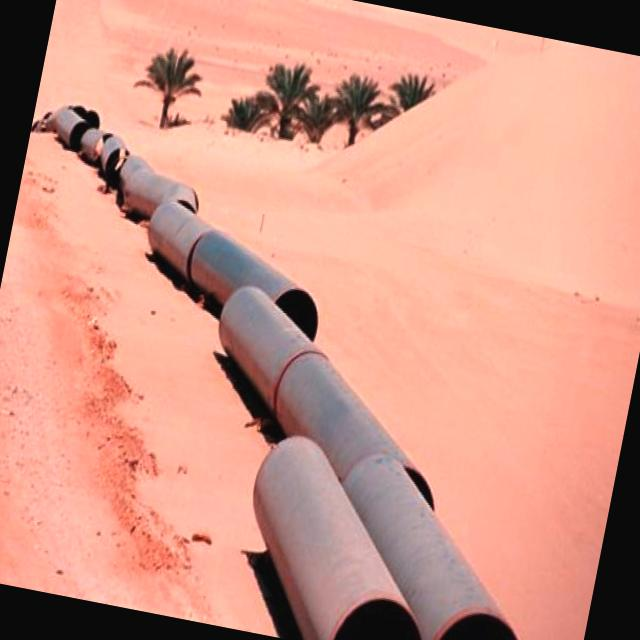gas: (34, 107, 515, 640), (253, 437, 420, 640)
